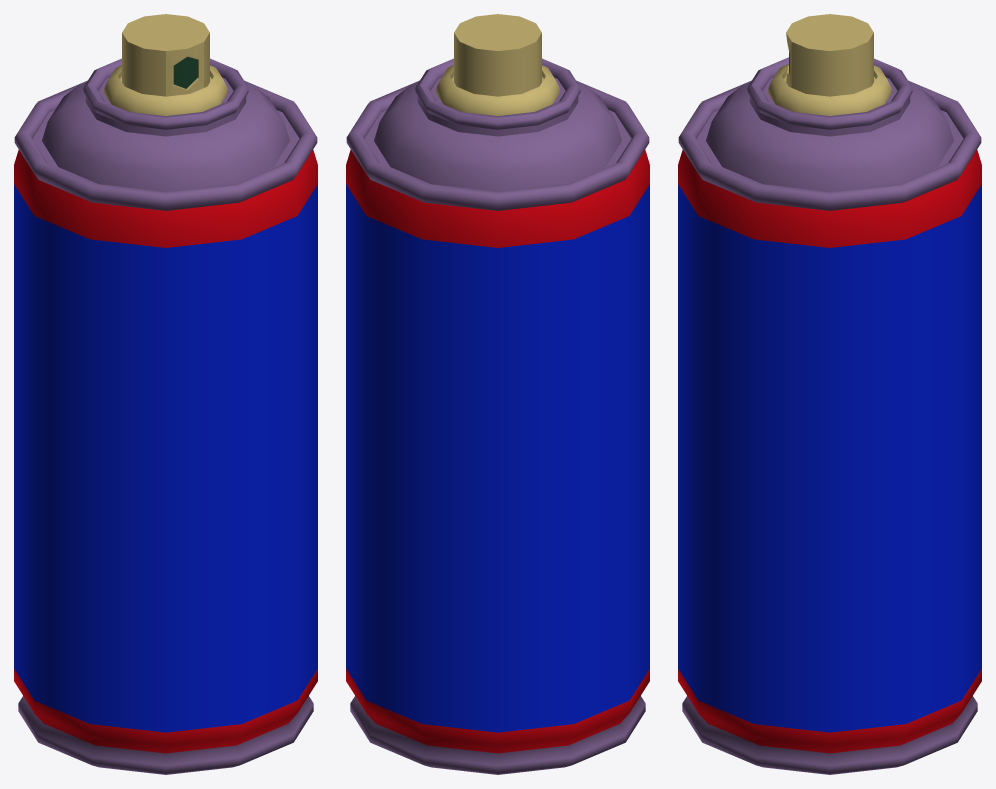
Rendered from staticMesh_prop_Spray.fbx.
3 views of the same model, side by side, from view 1: azimuth 30°, elevation 25°; view 2: azimuth 150°, elevation 25°; view 3: azimuth 270°, elevation 25° (orthographic).
Visible parts, largest first — view 1: pCylinder1; view 2: pCylinder1; view 3: pCylinder1.
Boxes of the visible parts, x1=… form: pCylinder1: x1=14, y1=14, x2=317, y2=774; pCylinder1: x1=346, y1=14, x2=649, y2=774; pCylinder1: x1=678, y1=14, x2=981, y2=774.
Bounding box in the file's own units: 14.45 × 36 × 14.45.
